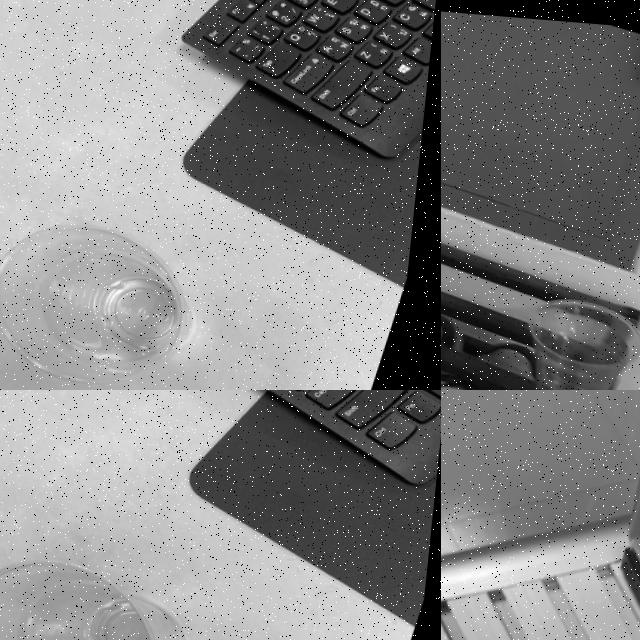glass: (0, 186, 230, 390), (0, 525, 216, 640), (499, 274, 640, 390)
